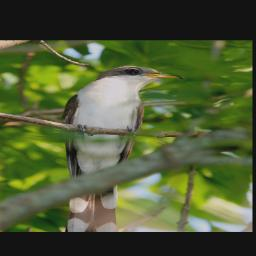Cuckoo: (59, 64, 186, 231)
